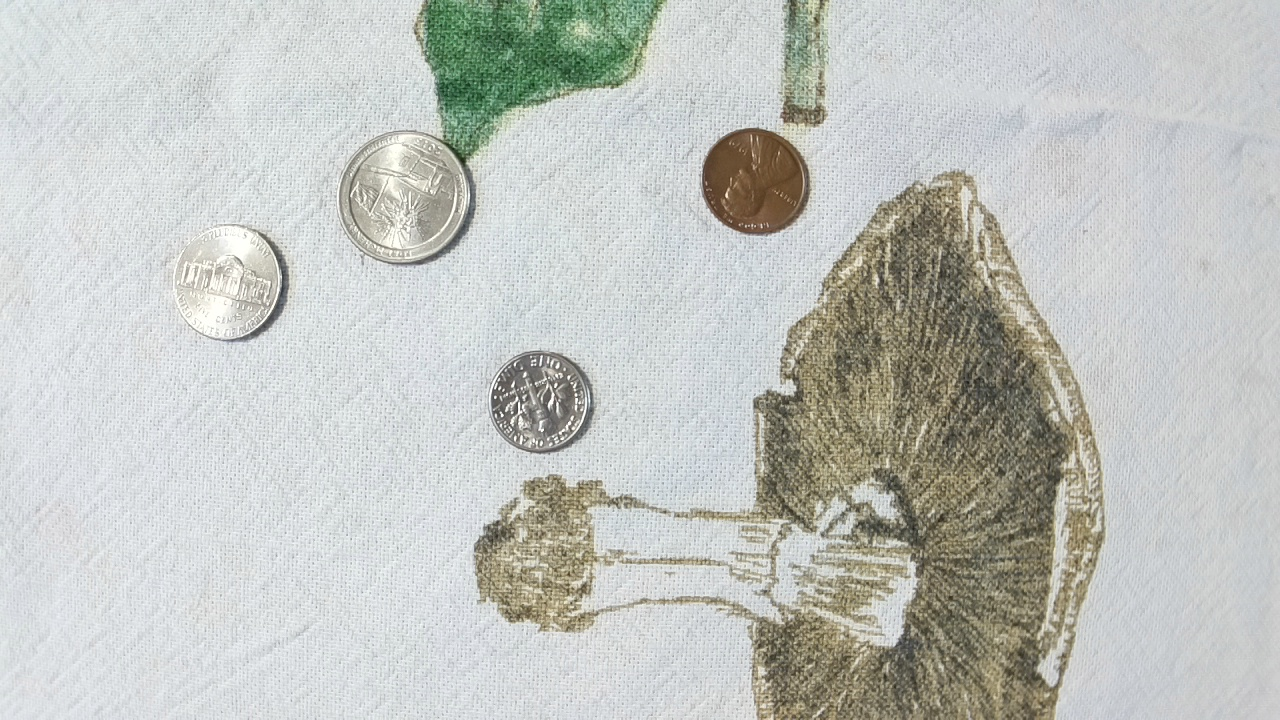dime: (485, 346, 595, 456)
nickel: (166, 220, 288, 348)
penny: (696, 126, 816, 236)
quarter: (338, 127, 474, 269)
